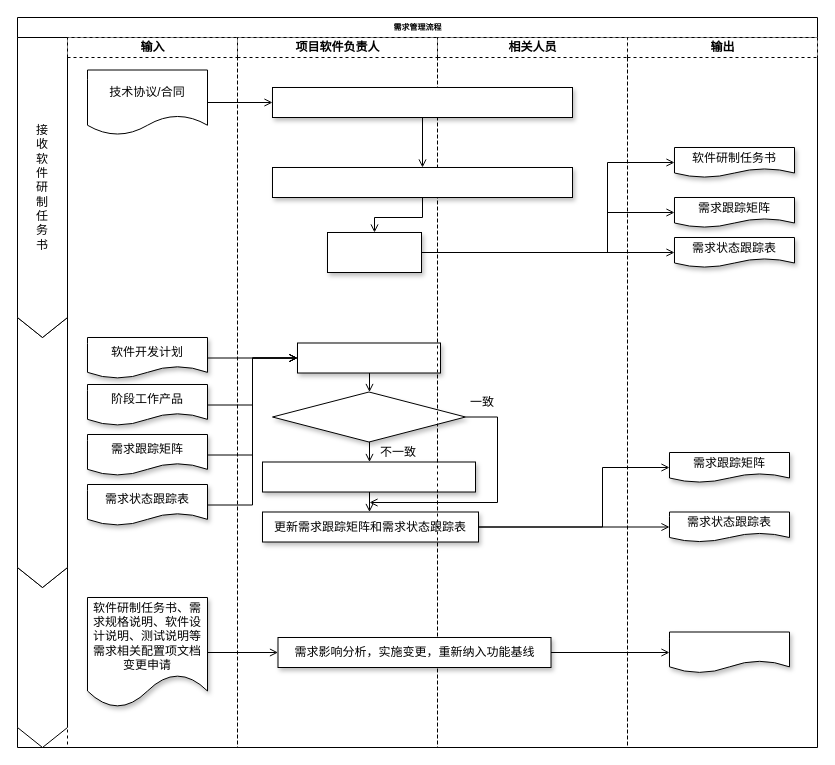
The diagram is 835 pixels wide and 765 high, and some of its shapes have lost their labels. The centre of each missing label's shape, as x and y in pixels:
一致？: [370,418]
变更后的需求相关配置项文档: [730,653]
建立需求跟踪矩阵、需求状态表: [375,254]
接收、理解《软件研制任务书》: [423,103]
检查需求一致性: [369,359]
确定来源和理由，制定、启动纠正措施: [370,478]
评审《软件研制任务书》，纳入功能基线: [423,183]
需 求 变 更 控 制: [42,657]
需 求 跟 踪: [42,452]
